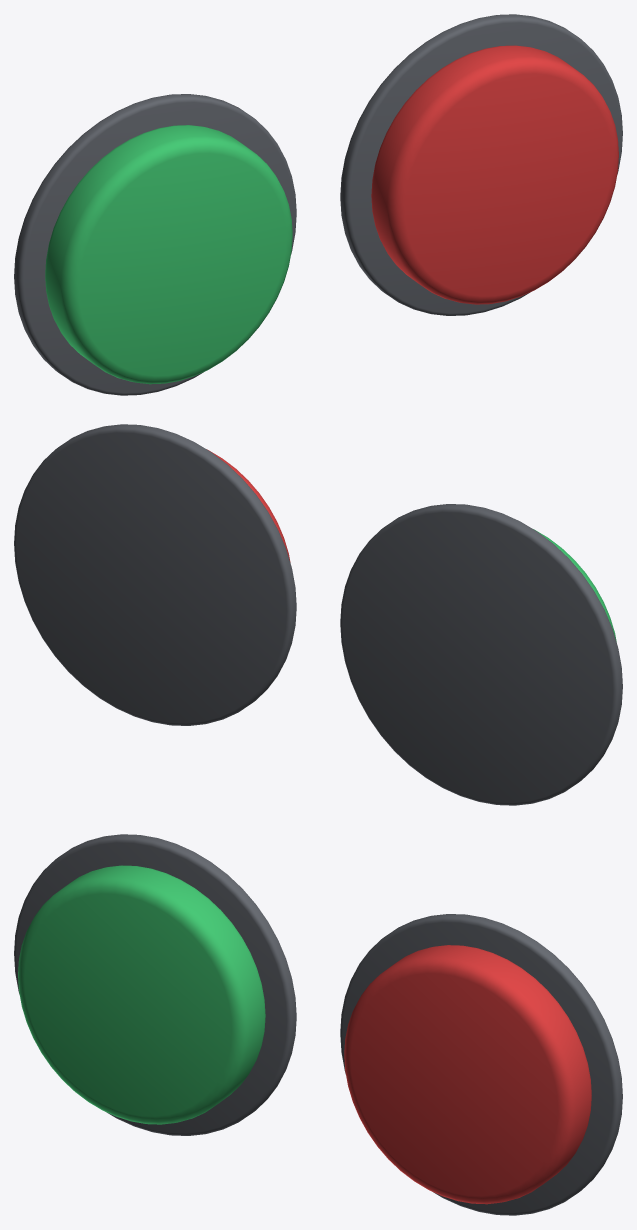
The model's file is placeholder_module.glb.
3 renders of one model, top to bottom at view 1: azimuth 30°, elevation 25°; view 2: azimuth 150°, elevation 25°; view 3: azimuth 330°, elevation 25°, orthographic.
Parts seen in each view (by area): view 1: part_strike, part_solve, collar_solve, collar_strike; view 2: collar_solve, collar_strike; view 3: part_solve, part_strike, collar_strike, collar_solve.
Part boxes in pixels (bbox=[...]): part_strike: bbox=[371, 45, 618, 304]; part_solve: bbox=[45, 125, 292, 384]; collar_solve: bbox=[14, 94, 296, 395]; collar_strike: bbox=[340, 14, 622, 315]; collar_solve: bbox=[340, 504, 622, 805]; collar_strike: bbox=[14, 424, 296, 725]; part_solve: bbox=[18, 865, 265, 1124]; part_strike: bbox=[344, 945, 591, 1204]; collar_strike: bbox=[340, 914, 622, 1215]; collar_solve: bbox=[14, 834, 296, 1135].
Size of the model in its own units: 0.63 by 0.29 by 0.056.
